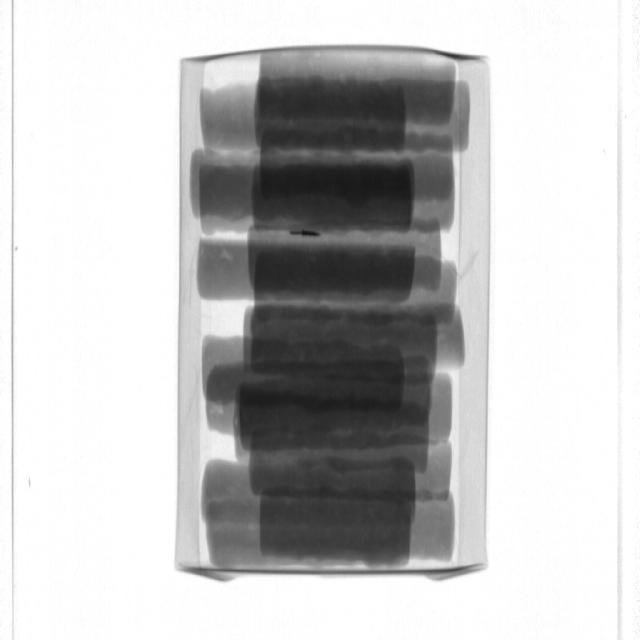ym: (291, 228, 323, 240)
